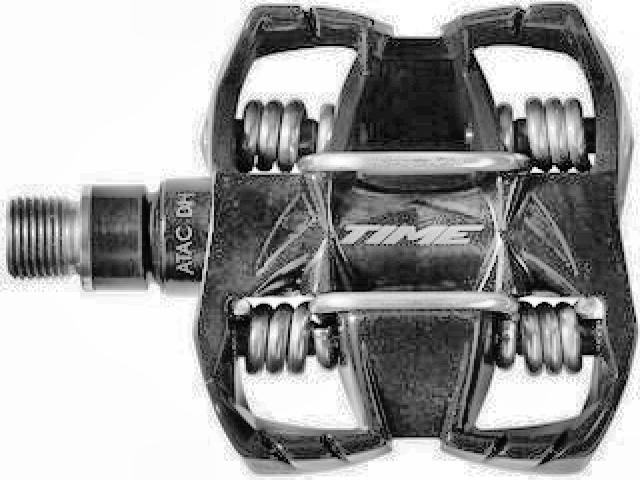pedal: (10, 1, 640, 472)
